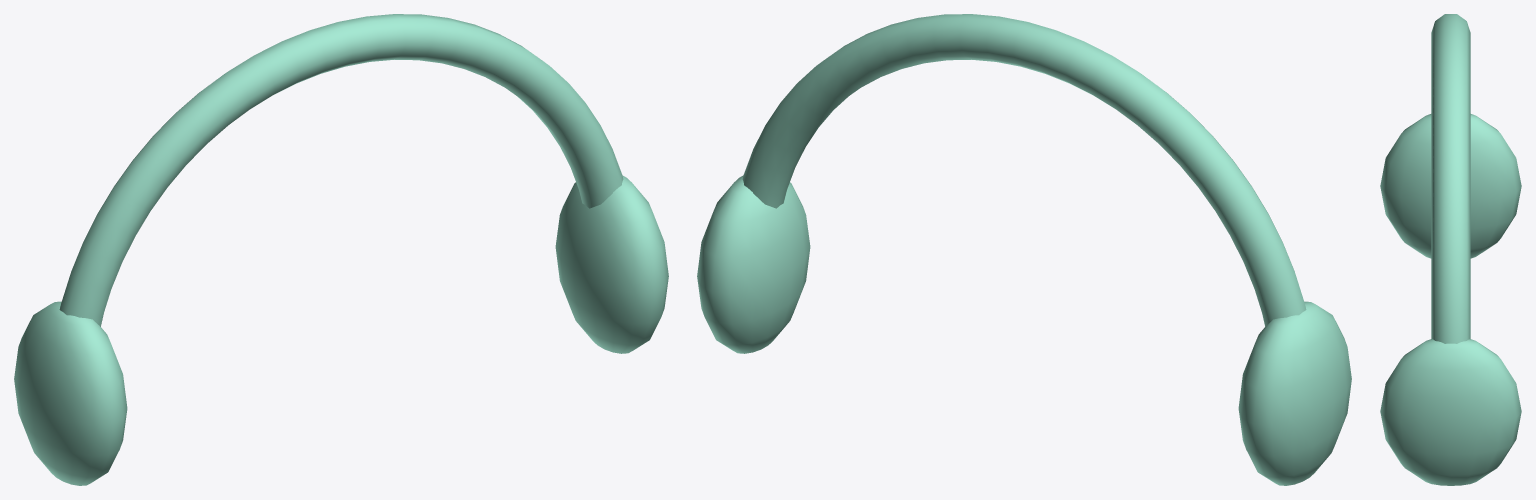
The model's file is headphones.glb.
3 views of the same model, side by side, from view 1: azimuth 30°, elevation 25°; view 2: azimuth 150°, elevation 25°; view 3: azimuth 270°, elevation 25° (orthographic). The views are drawn at different scales.
Visible parts, largest first — view 1: Headband, Ear shell, Ear shell.001; view 2: Headband, Ear shell, Ear shell.001; view 3: Ear shell.001, Headband, Ear shell.
Boxes of the visible parts, x1=… form: Headband: x1=59, y1=14, x2=623, y2=326; Ear shell: x1=14, y1=301, x2=127, y2=485; Ear shell.001: x1=555, y1=175, x2=668, y2=353; Headband: x1=742, y1=14, x2=1306, y2=326; Ear shell: x1=1238, y1=301, x2=1351, y2=485; Ear shell.001: x1=697, y1=175, x2=810, y2=353; Ear shell.001: x1=1380, y1=339, x2=1521, y2=485; Headband: x1=1431, y1=14, x2=1470, y2=343; Ear shell: x1=1380, y1=114, x2=1521, y2=258.
Size of the model in its own units: 0.56 by 0.3371 by 0.13.
